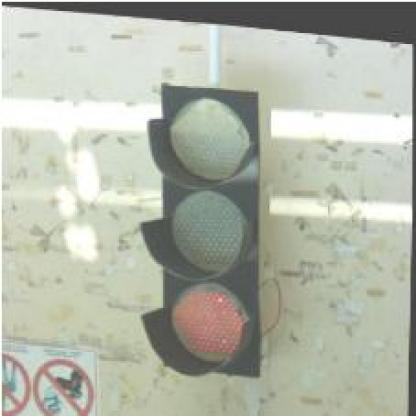red: (140, 74, 267, 377)
